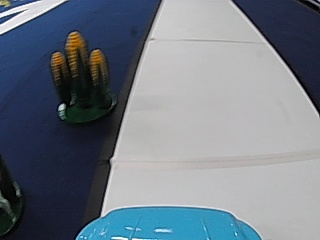corn: (48, 31, 114, 124)
